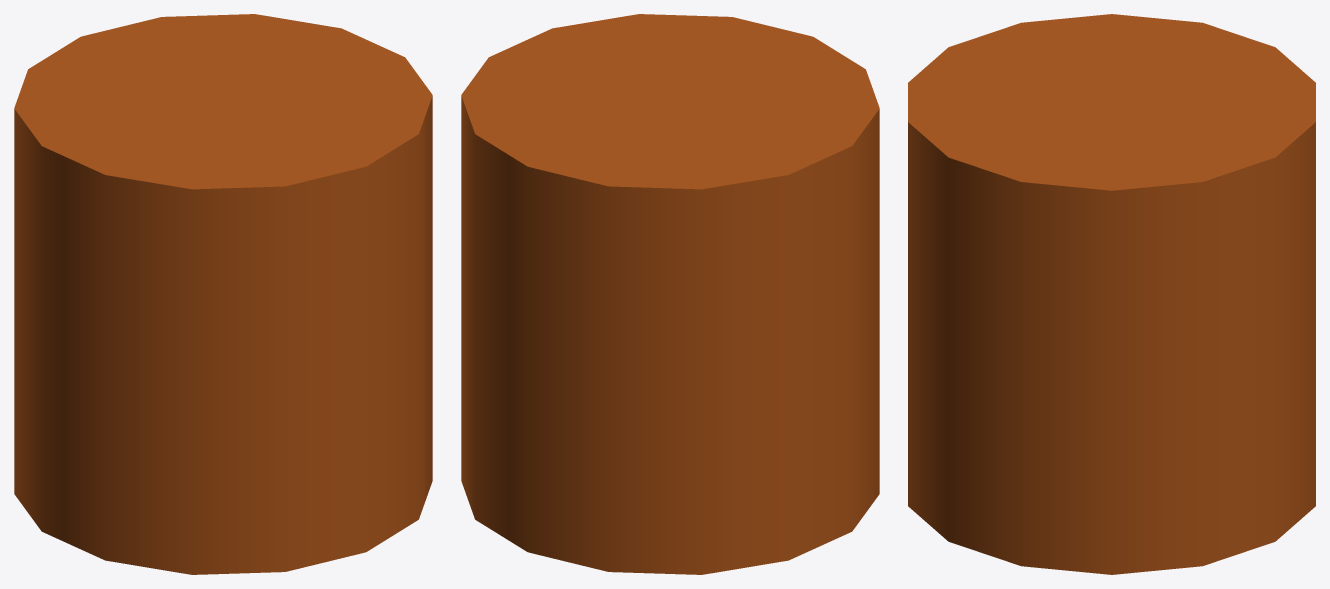
File: conserv4.FBX
The picture shows the model from 3 angles, left to right: view 1: azimuth 30°, elevation 25°; view 2: azimuth 150°, elevation 25°; view 3: azimuth 270°, elevation 25°; orthographic projection.
Parts seen in each view (by area): view 1: Cylinder001; view 2: Cylinder001; view 3: Cylinder001.
Boxes of the visible parts, <box> form: Cylinder001: <box>14,14,432,574</box>; Cylinder001: <box>461,14,879,574</box>; Cylinder001: <box>908,14,1315,574</box>.
Bounding box in the file's own units: 56.71 × 55.29 × 57.48.
